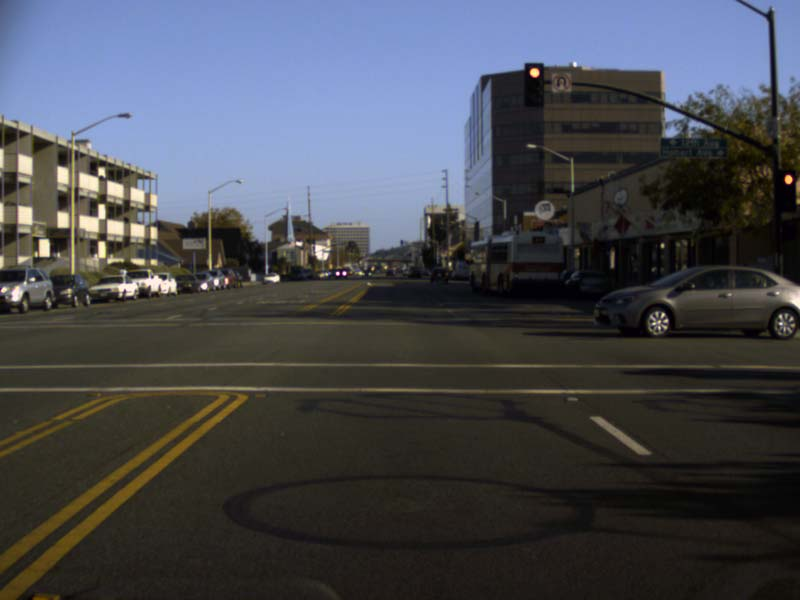Red: (523, 62, 544, 106), (775, 169, 795, 212)
